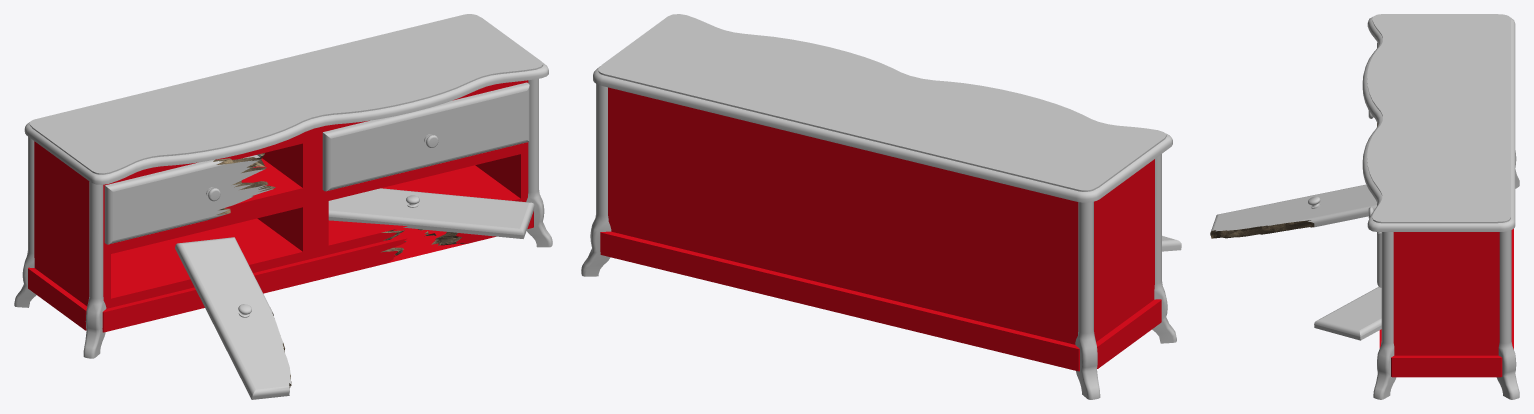
Rendered from Sketchfab_2024_10_08_20_13_47.fbx.
3 views of the same model, side by side, from view 1: azimuth 30°, elevation 25°; view 2: azimuth 150°, elevation 25°; view 3: azimuth 270°, elevation 25° (orthographic). The views are drawn at different scales.
Parts seen in each view (by area): view 1: Frame_old_low.001, Top_old_low.001, shelve_front_old_low.006, shelve_front_old_low.005, split_low.001, shelve_front_low.003, Legs_old_low.001; view 2: Frame_old_low.001, Top_old_low.001, Legs_old_low.001; view 3: Top_old_low.001, Frame_old_low.001, Legs_old_low.001, shelve_front_old_low.005, shelve_front_low.003.
Part boxes in pixels (box(x1,y1,x2,y2)): Frame_old_low.001: box(28, 80, 533, 332); Top_old_low.001: box(24, 14, 548, 184); shelve_front_old_low.006: box(322, 82, 529, 191); shelve_front_old_low.005: box(175, 237, 291, 399); split_low.001: box(104, 157, 275, 244); shelve_front_low.003: box(328, 188, 534, 238); Legs_old_low.001: box(14, 78, 552, 358); Frame_old_low.001: box(600, 87, 1161, 371); Top_old_low.001: box(593, 14, 1172, 202); Legs_old_low.001: box(581, 84, 1176, 399); Top_old_low.001: box(1362, 14, 1515, 231); Frame_old_low.001: box(1379, 228, 1513, 377); Legs_old_low.001: box(1373, 150, 1519, 399); shelve_front_old_low.005: box(1210, 184, 1376, 238); shelve_front_low.003: box(1314, 287, 1381, 340).
Bounding box in the file's own units: 1541 × 581 × 930.
